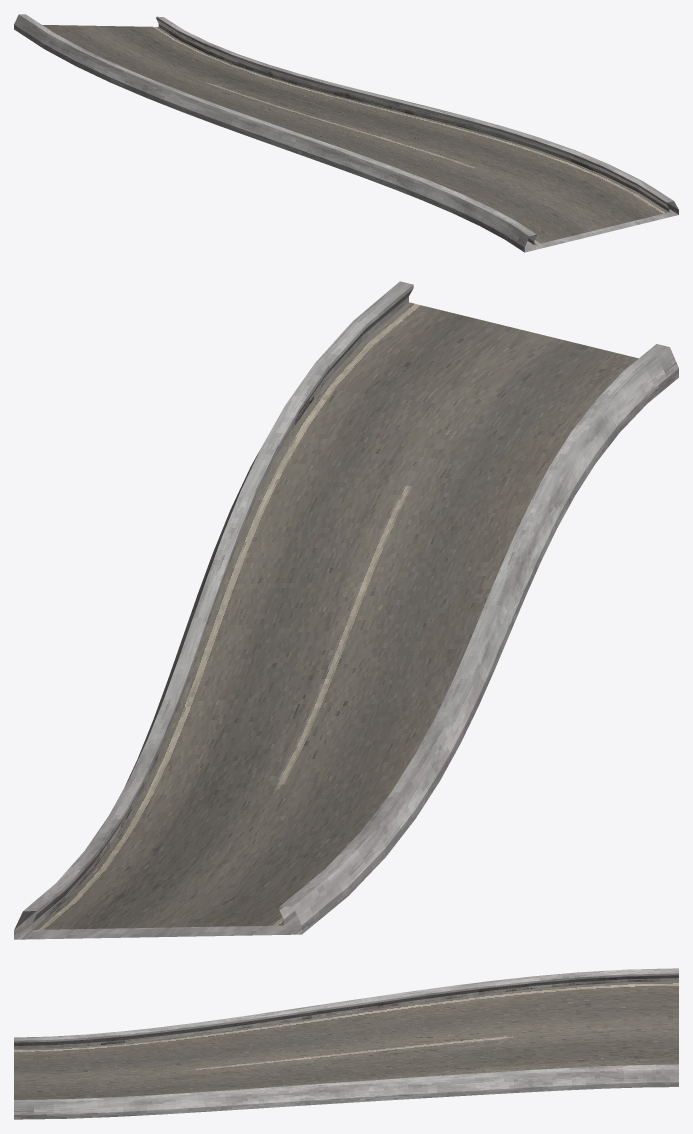
File: chicane-left1x4.glb
The picture shows the model from 3 angles, top to bottom: view 1: azimuth 30°, elevation 25°; view 2: azimuth 150°, elevation 25°; view 3: azimuth 270°, elevation 25°; orthographic projection. The views are drawn at different scales.
Parts seen in each view (by area): view 1: road-Chicane-Flat-HalfBankedRight-Down1-Left1-Size4; view 2: road-Chicane-Flat-HalfBankedRight-Down1-Left1-Size4; view 3: road-Chicane-Flat-HalfBankedRight-Down1-Left1-Size4.
Part boxes in pixels (x1,y1,x2,y2): road-Chicane-Flat-HalfBankedRight-Down1-Left1-Size4: [14, 14, 678, 252]; road-Chicane-Flat-HalfBankedRight-Down1-Left1-Size4: [14, 281, 678, 939]; road-Chicane-Flat-HalfBankedRight-Down1-Left1-Size4: [14, 968, 678, 1119].
Bounding box in the file's own units: 2 × 0.3438 × 4.
2 materials, 2 textured.
